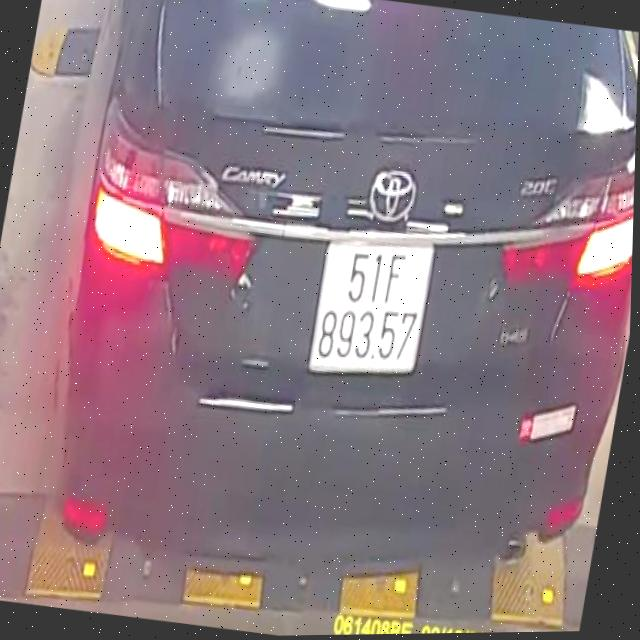car: (19, 0, 640, 621)
plate: (298, 231, 441, 390)
